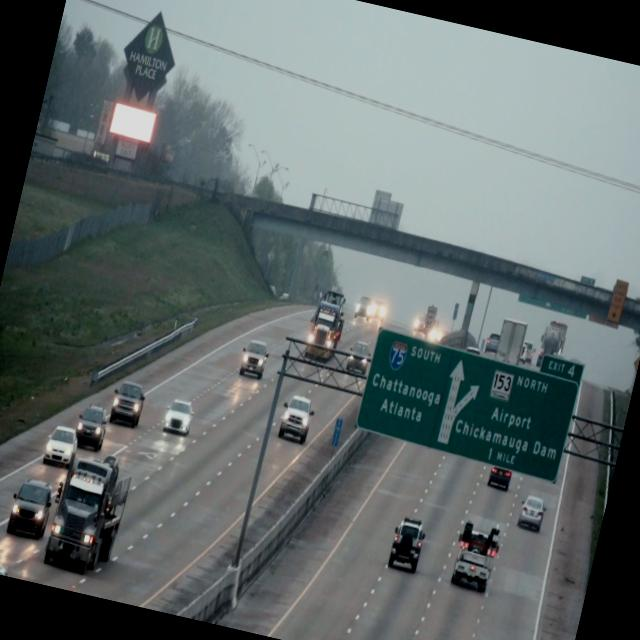Vehicle: (41, 444, 138, 580), (448, 516, 504, 594), (302, 284, 352, 368), (4, 474, 57, 541), (386, 512, 429, 572), (274, 388, 316, 448), (40, 420, 81, 471), (72, 400, 110, 454), (108, 378, 147, 429), (162, 393, 196, 442), (514, 490, 550, 536), (236, 338, 272, 382), (0, 553, 16, 577)
